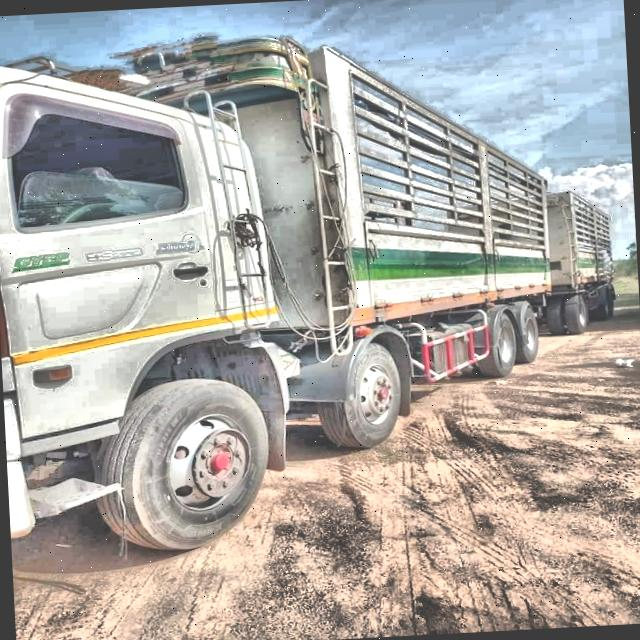trailer: (0, 3, 636, 580)
